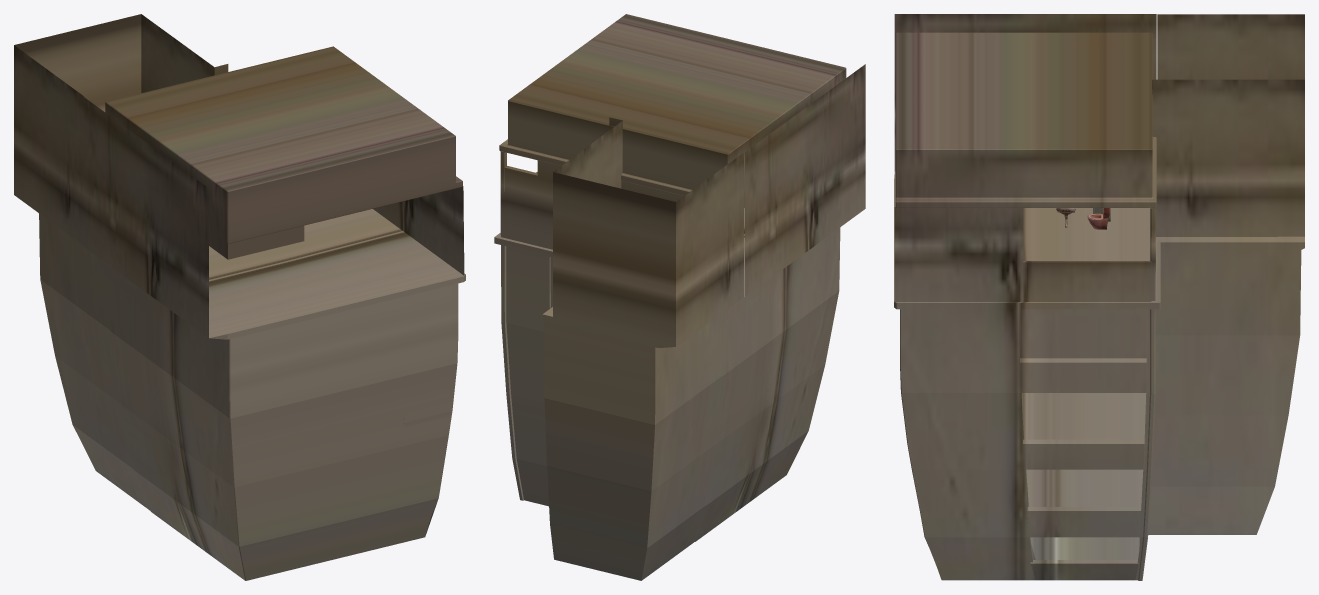
Rendered from Mainbuild_objUpdate2_Bathroom.fbx.
The picture shows the model from 3 angles, left to right: view 1: azimuth 30°, elevation 25°; view 2: azimuth 150°, elevation 25°; view 3: azimuth 270°, elevation 25°; orthographic projection. The views are drawn at different scales.
Visible parts, largest first — view 1: Env_Flats; view 2: Env_Flats; view 3: Env_Flats.
Boxes of the visible parts, x1,y1,x2,y2 form: Env_Flats: (14, 14, 465, 580); Env_Flats: (494, 14, 865, 580); Env_Flats: (894, 14, 1304, 580).
Bounding box in the file's own units: 2007 × 3149 × 2641.
Materials: 3 (3 with a texture image).
